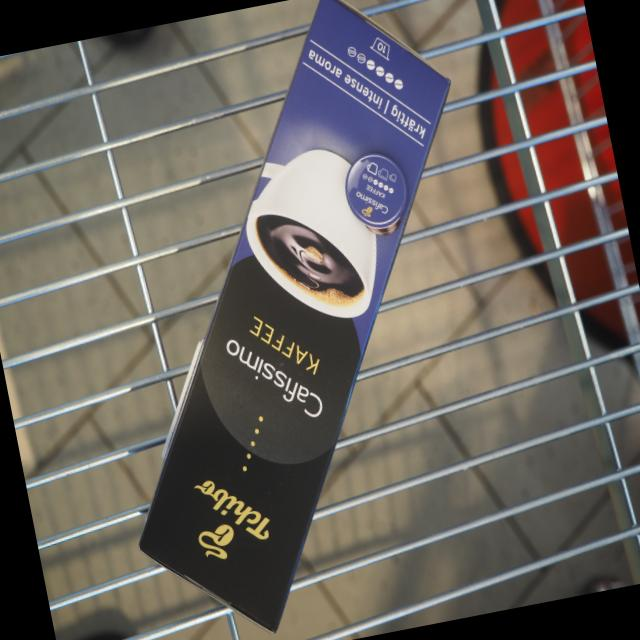Simo Kaffee Kraft: (133, 0, 455, 640)
